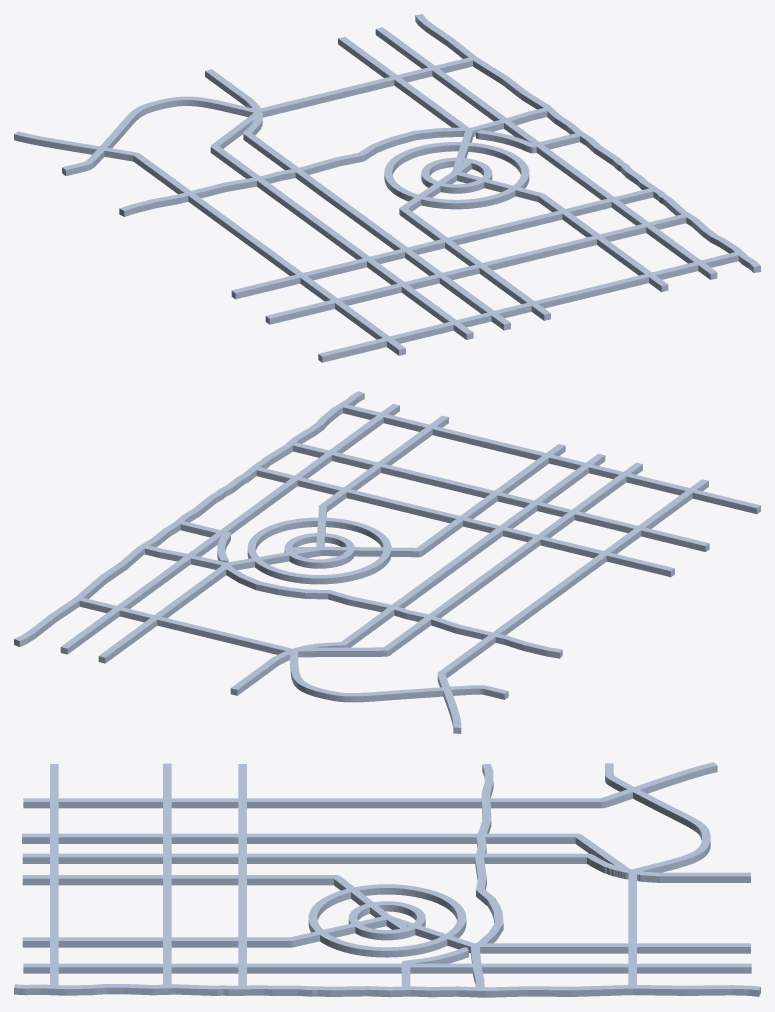
The model's file is main_roads_original.glb.
3 views of the same model, one above another, from view 1: azimuth 30°, elevation 25°; view 2: azimuth 150°, elevation 25°; view 3: azimuth 270°, elevation 25° (orthographic). The views are drawn at different scales.
Visible parts, largest first — view 1: world; view 2: world; view 3: world.
Part boxes in pixels (x1,y1,x2,y2): world: (14, 14, 760, 362); world: (14, 391, 760, 733); world: (14, 762, 760, 997).
Bounding box in the file's own units: 74.57 × 1 × 103.
